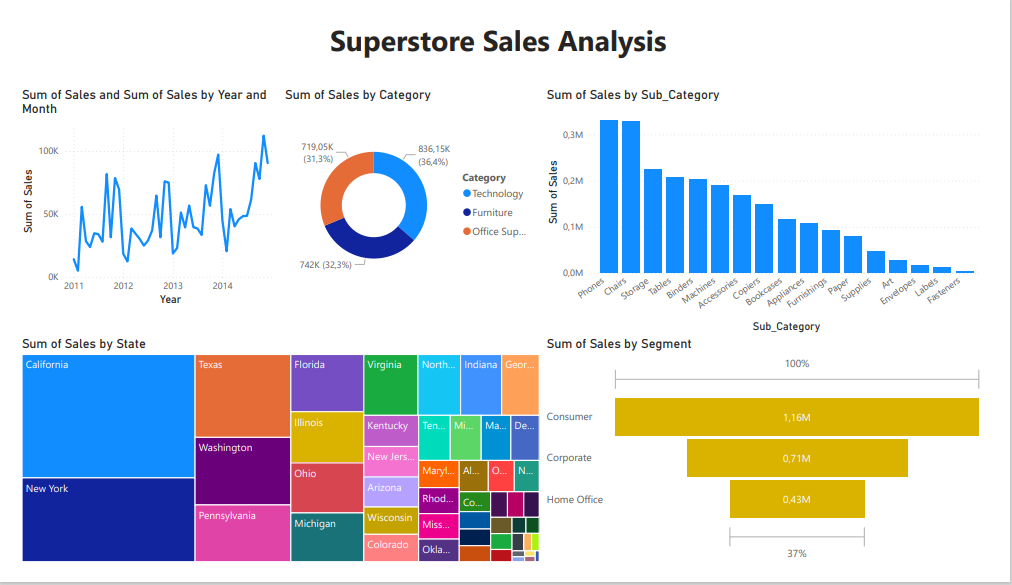

What the dashboard file says about the page in this screenshot:
{"tool":"powerbi","page":{"name":"Page 1","canvas":[1280,720],"ordinal":0},"visuals":[{"type":"textbox","box":[404.8,0,468.7,67.2],"z":0},{"type":"lineClusteredColumnComboChart","fields":{"Y":["Sum(superstore_data.Sales)"],"Category":["superstore_data.Sub_Category"]},"box":[690.4,92.4,582.9,327.6],"z":1000},{"type":"treemap","fields":{"Group":["superstore_data.State"],"Values":["Sum(superstore_data.Sales)"]},"box":[0,419.9,690.4,300.7],"z":2000},{"type":"donutChart","fields":{"Category":["superstore_data.Category"],"Y":["Sum(superstore_data.Sales)"]},"box":[346,92.4,344.4,292.3],"z":2001},{"type":"funnel","fields":{"Category":["superstore_data.Segment"],"Y":["Sum(superstore_data.Sales)"]},"box":[690.4,419.9,582.9,300.7],"z":2002},{"type":"lineChart","fields":{"Y":["Sum(superstore_data.Sales)","Sum(superstore_data.Sales)"],"Category":["superstore_data.Order_Date.Variation.Date Hierarchy.Year","superstore_data.Order_Date.Variation.Date Hierarchy.Month"]},"box":[0,92.4,346,292.3],"z":2003}]}

Visuals, with their boxes in screenshot pixels (x1, y1, x2, y2), scaled from the page's 1280x720 canvas onto the 1012x585 screenshot:
textbox: (320, 0, 691, 55)
lineClusteredColumnComboChart - Sum(superstore_data.Sales) x superstore_data.Sub_Category: (546, 75, 1007, 341)
treemap - superstore_data.State x Sum(superstore_data.Sales): (0, 341, 546, 584)
donutChart - superstore_data.Category x Sum(superstore_data.Sales): (274, 75, 546, 313)
funnel - superstore_data.Segment x Sum(superstore_data.Sales): (546, 341, 1007, 584)
lineChart - Sum(superstore_data.Sales) x Sum(superstore_data.Sales): (0, 75, 274, 313)
